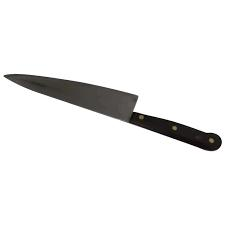Knife: (3, 72, 222, 151)
